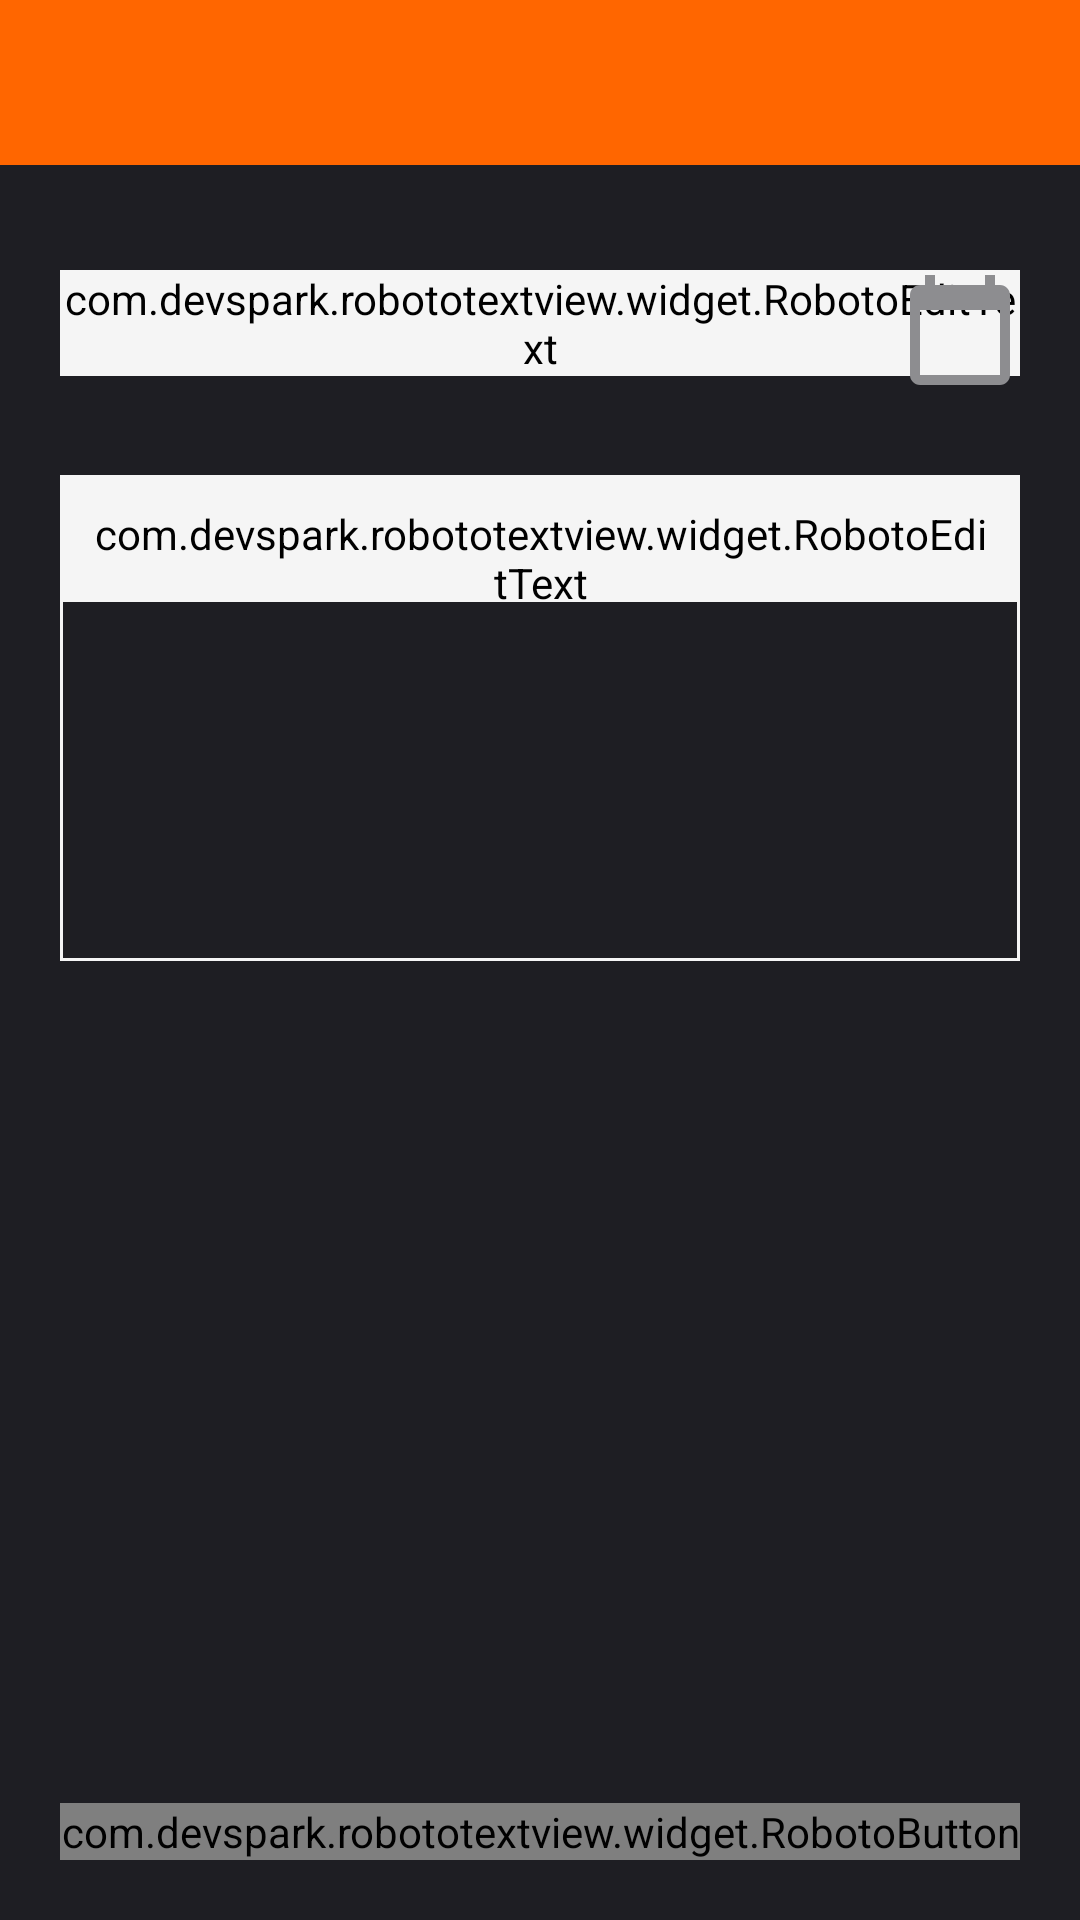

Screen size 1080 x 1920. Icon name, then its box in pixels as bbox(x1, y1, x2, y2):
calendar today: bbox(900, 270, 1020, 385)
